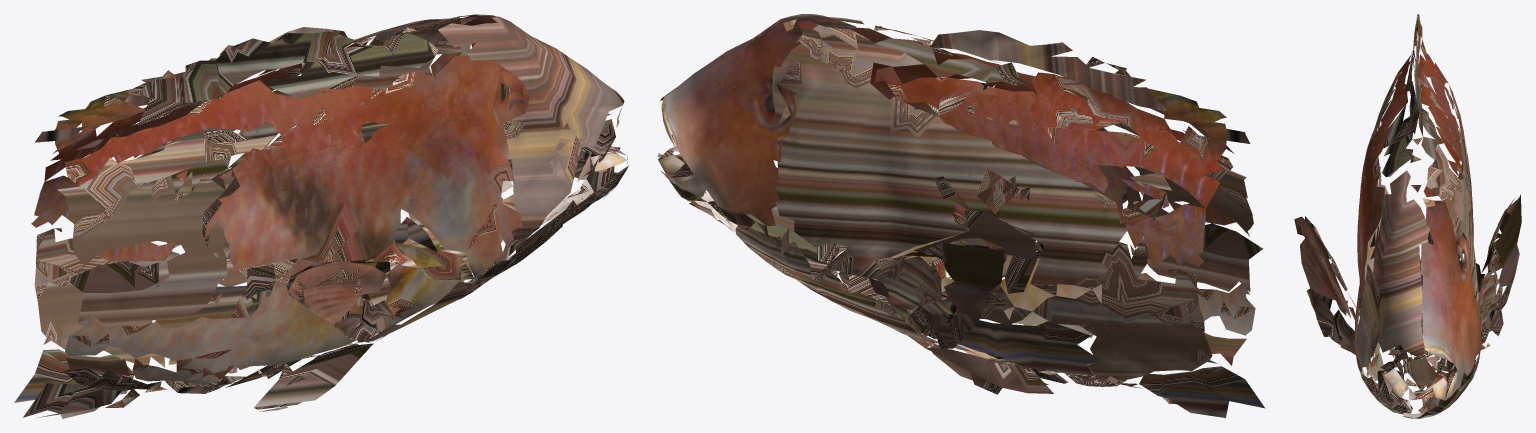
The model's file is tuskfin_a.glb.
The picture shows the model from 3 angles, left to right: view 1: azimuth 30°, elevation 25°; view 2: azimuth 150°, elevation 25°; view 3: azimuth 270°, elevation 25°; orthographic projection. The views are drawn at different scales.
Visible parts, largest first — view 1: tuskfin_a; view 2: tuskfin_a; view 3: tuskfin_a.
Boxes of the visible parts, bbox=[...] form: tuskfin_a: bbox=[14, 14, 628, 418]; tuskfin_a: bbox=[657, 14, 1265, 417]; tuskfin_a: bbox=[1294, 14, 1521, 418].
Bounding box in the file's own units: 0.3251 × 0.1847 × 0.1223.
1 material, 1 textured.
